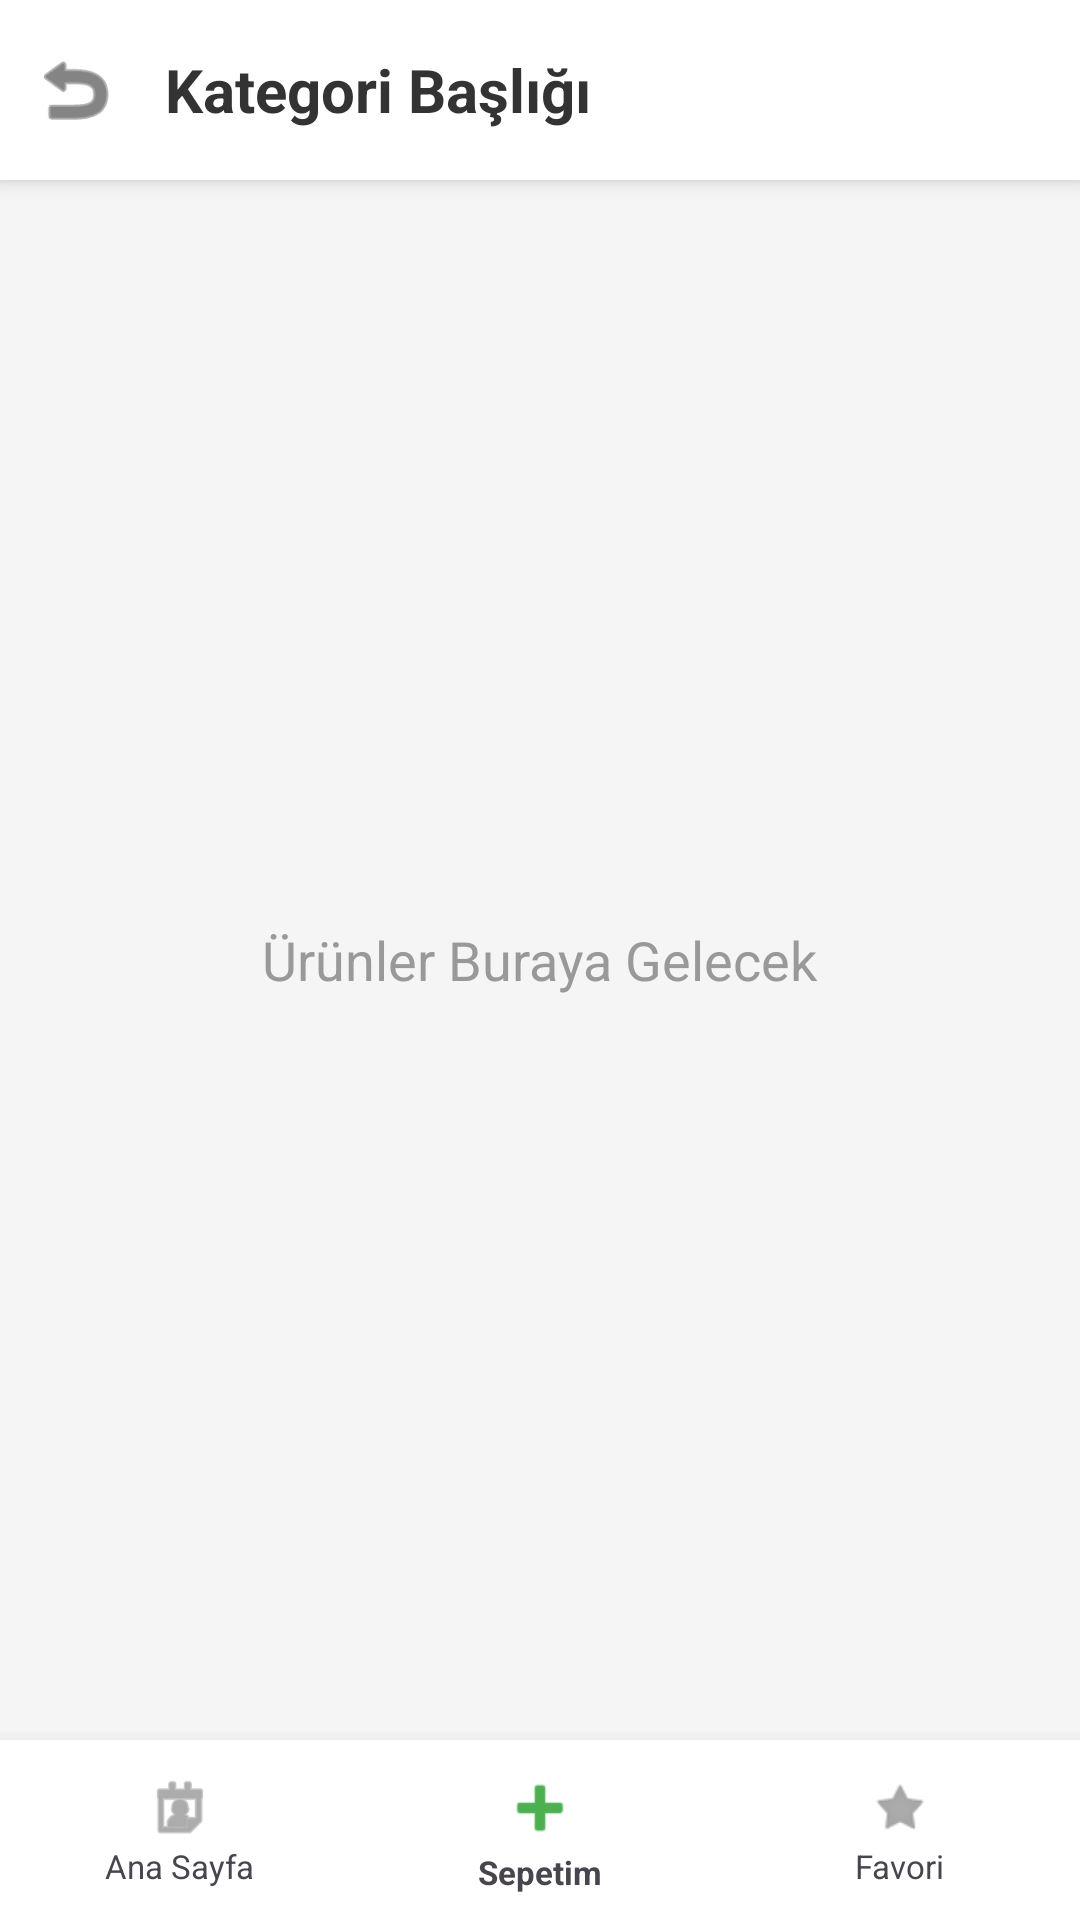

Screen size 1080×1920. Icon name, then its box in pixels as bbox=(x1, y1, x2, y2):
add: bbox=(516, 1784, 564, 1832)
calendar: bbox=(157, 1781, 203, 1833)
revert: bbox=(44, 61, 109, 120)
star off: bbox=(877, 1785, 923, 1829)
